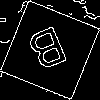B: (25, 25, 74, 81)
